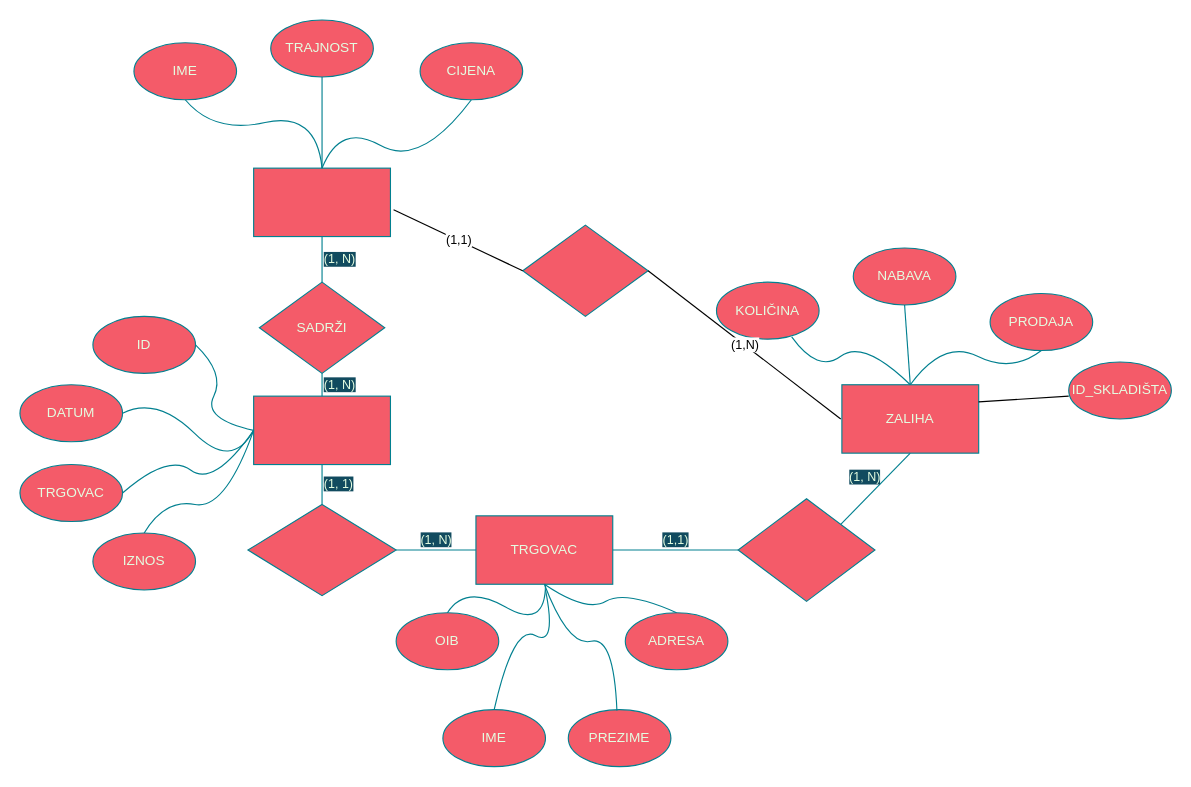
Image size: 1191x787. Some labels were removed from this diagram. The shapes that lost their labels are listed below. From the top down, each one's centre as x and y in pixels, then its label:
At (321,202): "VOĆE".
At (585,270): "SE NALAZI".
At (321,430): "RAČUN".
At (321,549): "IZDAJE".
At (806,549): "VODI EVIDENCIJU".
